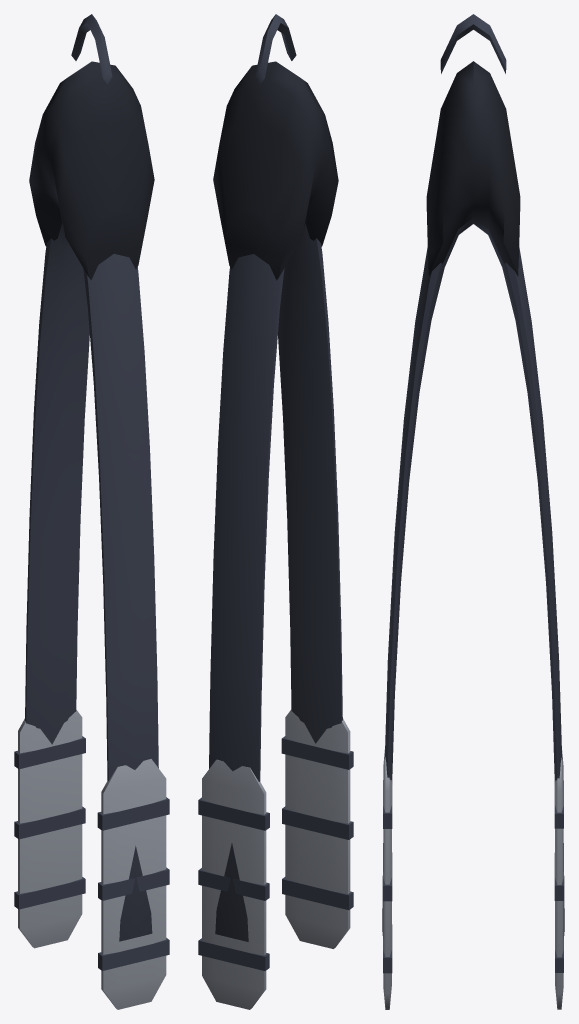
Rendered from SM_Crew_PhoneBand.fbx.
3 views of the same model, side by side, from view 1: azimuth 30°, elevation 25°; view 2: azimuth 150°, elevation 25°; view 3: azimuth 270°, elevation 25° (orthographic). The views are drawn at different scales.
Parts seen in each view (by area): view 1: SM_Crew_PhoneBand; view 2: SM_Crew_PhoneBand; view 3: SM_Crew_PhoneBand.
Part boxes in pixels (bbox=[...]): SM_Crew_PhoneBand: bbox=[14, 14, 169, 1009]; SM_Crew_PhoneBand: bbox=[198, 14, 353, 1009]; SM_Crew_PhoneBand: bbox=[382, 14, 564, 1009].
Size of the model in its own units: 67.43 by 650 by 109.
